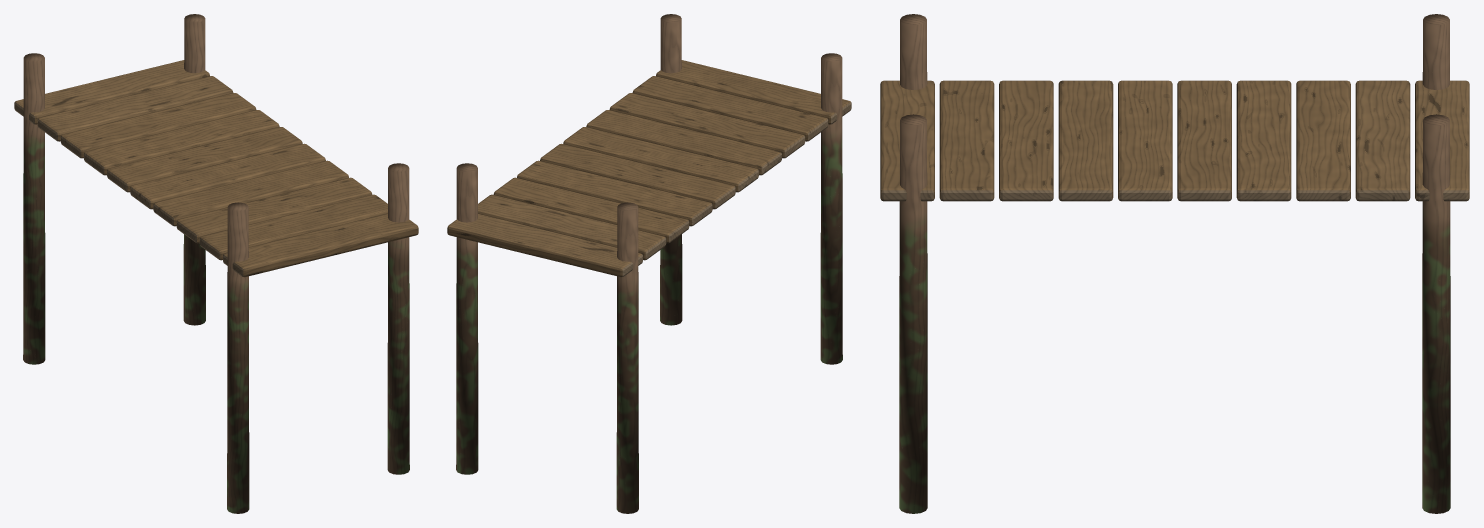
The model's file is stilt_pier.glb.
The picture shows the model from 3 angles, left to right: view 1: azimuth 30°, elevation 25°; view 2: azimuth 150°, elevation 25°; view 3: azimuth 270°, elevation 25°; orthographic projection. The views are drawn at different scales.
Parts seen in each view (by area): view 1: Pier; view 2: Pier; view 3: Pier.
Part boxes in pixels (x1=…): Pier: x1=14, y1=14, x2=418, y2=513; Pier: x1=447, y1=14, x2=851, y2=513; Pier: x1=880, y1=14, x2=1469, y2=513.
Bounding box in the file's own units: 2.24 × 3.6 × 4.96.
1 material, 1 textured.
